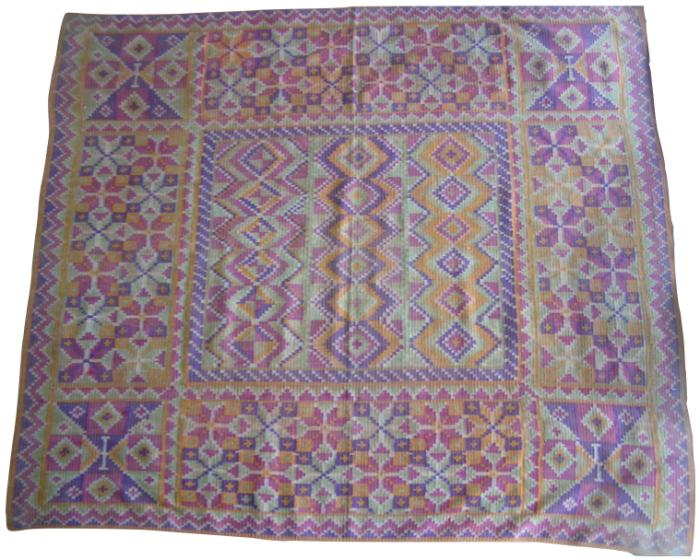malong: (17, 3, 700, 560)
